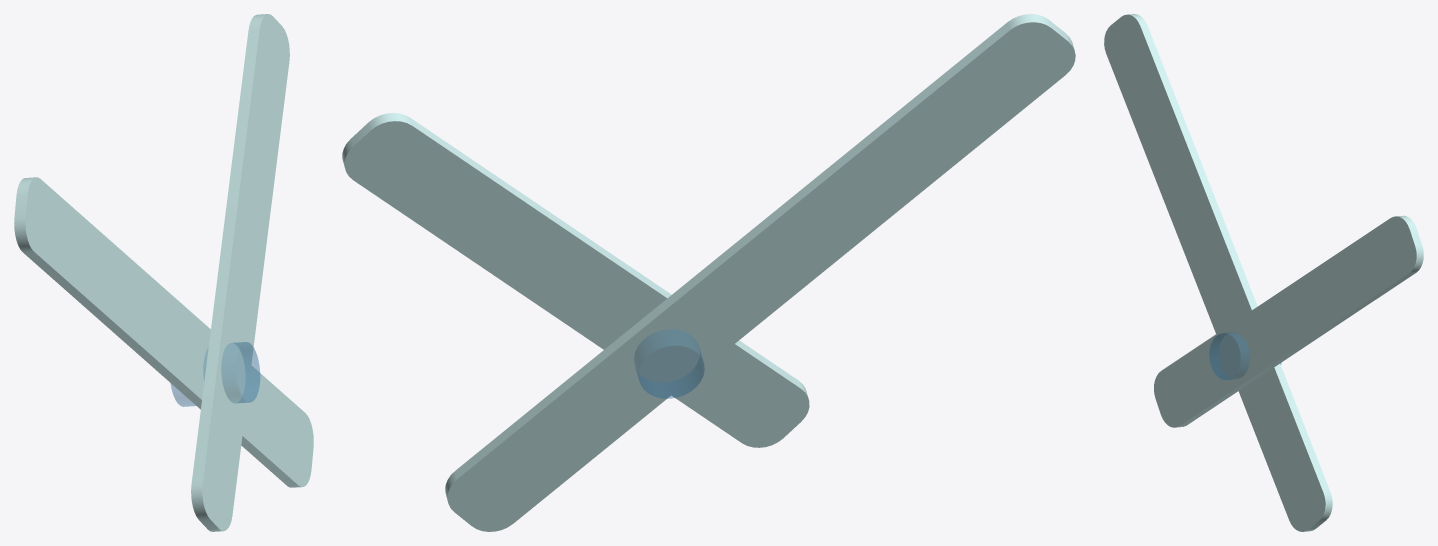
File: clock_hands.glb
3 views of the same model, side by side, from view 1: azimuth 30°, elevation 25°; view 2: azimuth 150°, elevation 25°; view 3: azimuth 270°, elevation 25° (orthographic). The views are drawn at different scales.
Parts seen in each view (by area): view 1: decorative_set_vol005_hamid_shk64.001; view 2: decorative_set_vol005_hamid_shk64.001; view 3: decorative_set_vol005_hamid_shk64.001.
Boxes of the visible parts, x1,y1,x2,y2 form: decorative_set_vol005_hamid_shk64.001: (14,14,313,531); decorative_set_vol005_hamid_shk64.001: (342,14,1075,531); decorative_set_vol005_hamid_shk64.001: (1104,14,1423,531).
Bounding box in the file's own units: 1.43 × 1.4 × 1.09.
